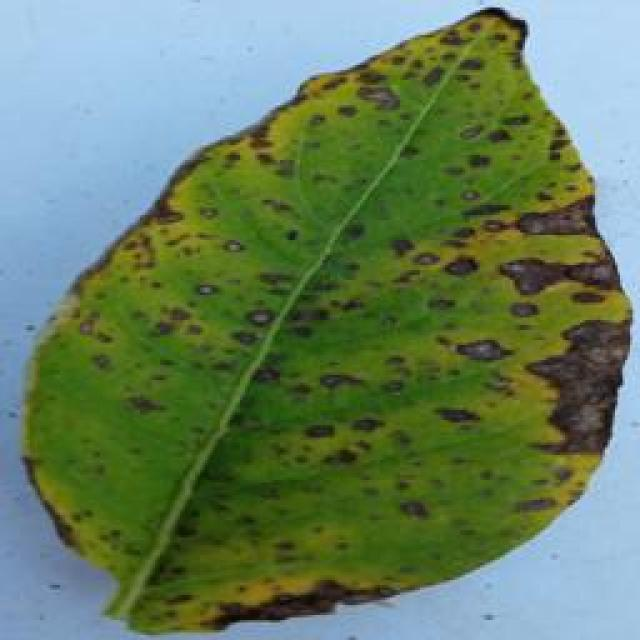Potato_Early_Blight: (17, 14, 633, 640)
